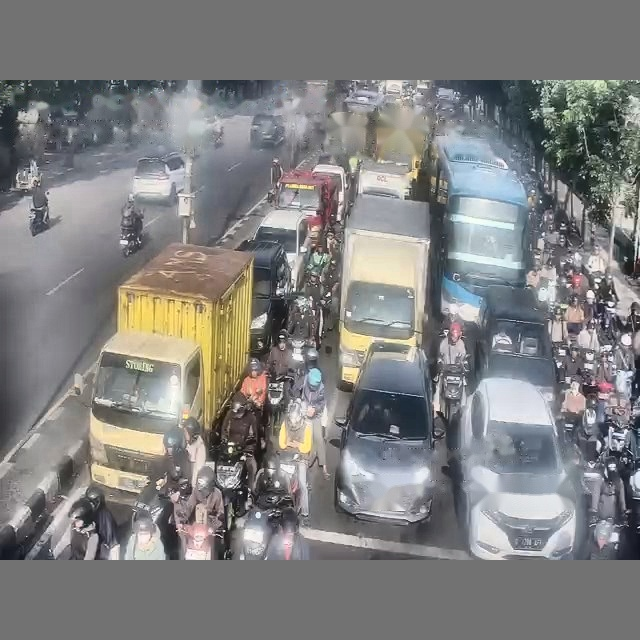Bis: (431, 136, 530, 322)
Mobil: (454, 378, 580, 559), (334, 342, 443, 525), (474, 285, 559, 409), (239, 240, 290, 355), (253, 210, 309, 289), (132, 152, 185, 203), (250, 114, 285, 147), (344, 89, 383, 113)
Motor: (238, 490, 292, 559), (214, 442, 248, 534), (440, 357, 468, 423), (268, 375, 293, 437), (119, 212, 142, 257), (29, 205, 49, 235)
Truk: (89, 243, 253, 493), (338, 194, 430, 389)
